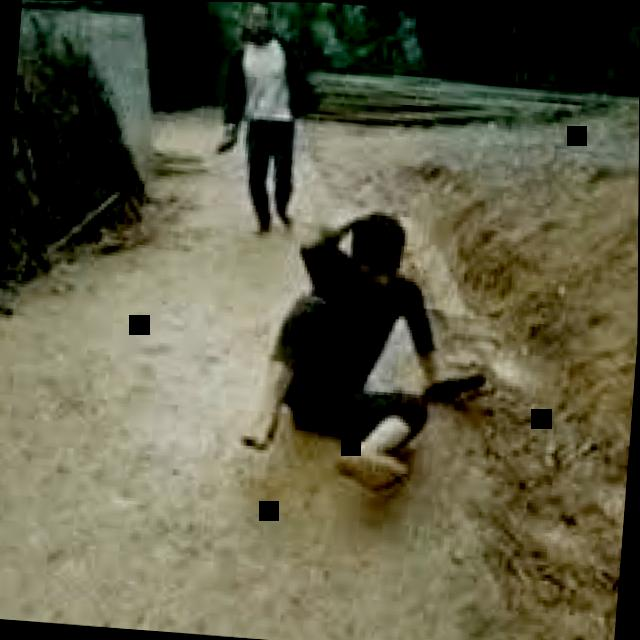Fall-Detected: (217, 178, 503, 504)
